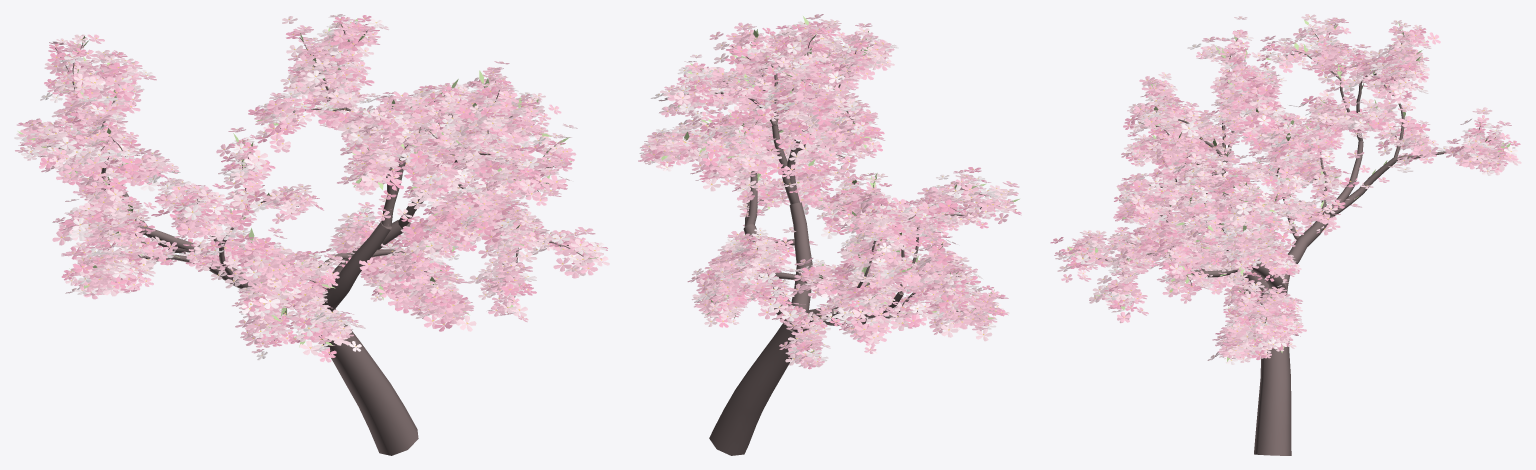
Rendered from peach.glb.
The picture shows the model from 3 angles, left to right: view 1: azimuth 30°, elevation 25°; view 2: azimuth 150°, elevation 25°; view 3: azimuth 270°, elevation 25°; orthographic projection. The views are drawn at different scales.
Parts seen in each view (by area): view 1: peach_tree; view 2: peach_tree; view 3: peach_tree.
Boxes of the visible parts, bbox=[...] form: peach_tree: bbox=[14, 14, 609, 455]; peach_tree: bbox=[638, 14, 1021, 455]; peach_tree: bbox=[1050, 14, 1521, 455].
Size of the model in its own units: 7.38 by 7.34 by 7.97.
